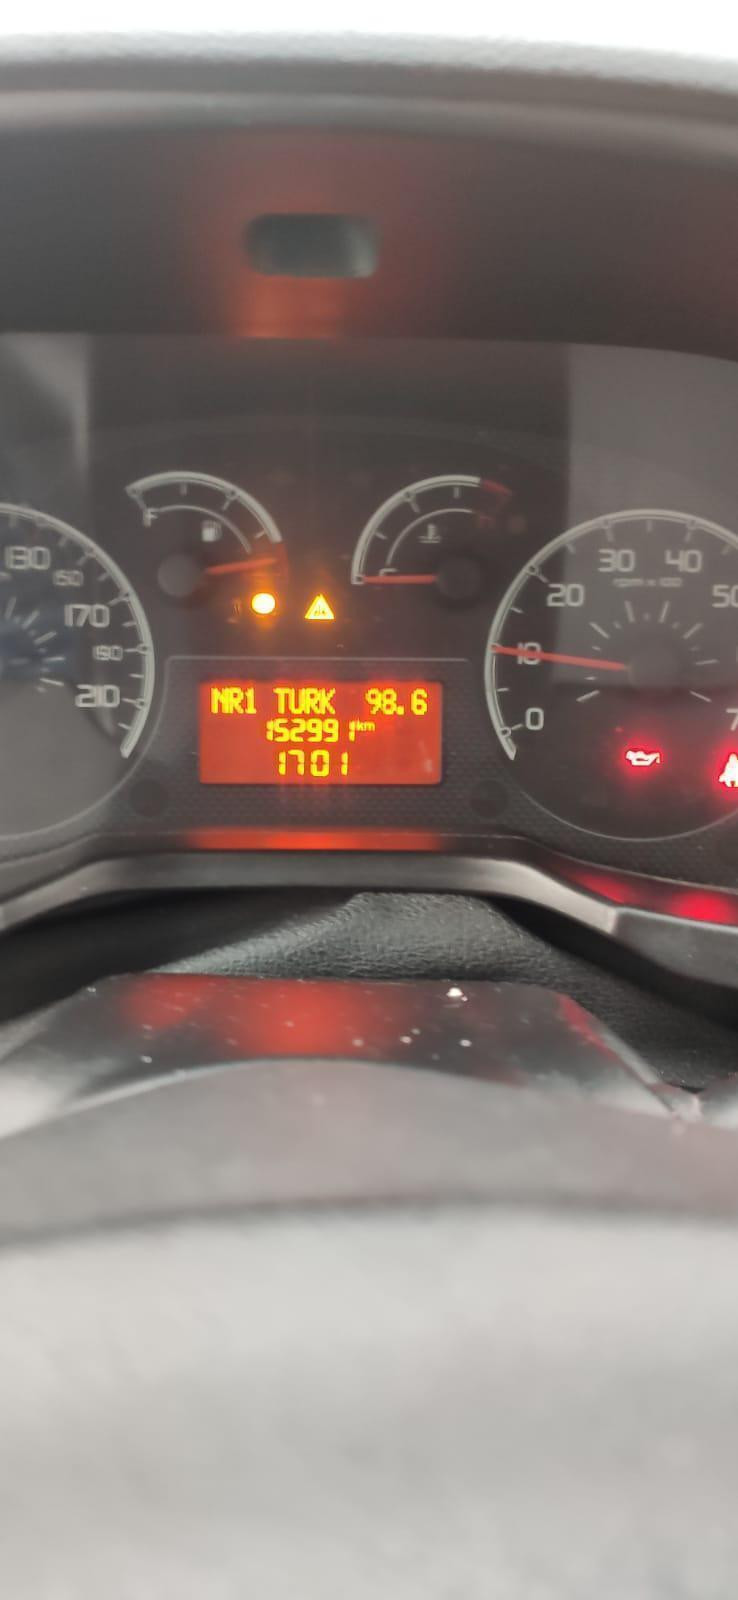,: (396, 703, 407, 717)
0: (309, 749, 329, 777)
1: (245, 684, 257, 716), (276, 749, 287, 776), (339, 750, 348, 776), (265, 718, 274, 743), (348, 718, 355, 745)
2: (290, 716, 305, 743)
5: (275, 716, 288, 743)
6: (410, 684, 428, 717)
7: (288, 747, 304, 776)
8: (380, 686, 395, 714)
9: (321, 717, 338, 742), (365, 686, 380, 714), (306, 717, 321, 745)
X: (210, 683, 227, 713), (289, 685, 305, 714), (272, 684, 288, 713), (228, 685, 243, 714), (319, 686, 336, 713), (305, 687, 318, 714), (364, 719, 374, 732), (357, 717, 364, 732)
odometer: (196, 677, 445, 785)
